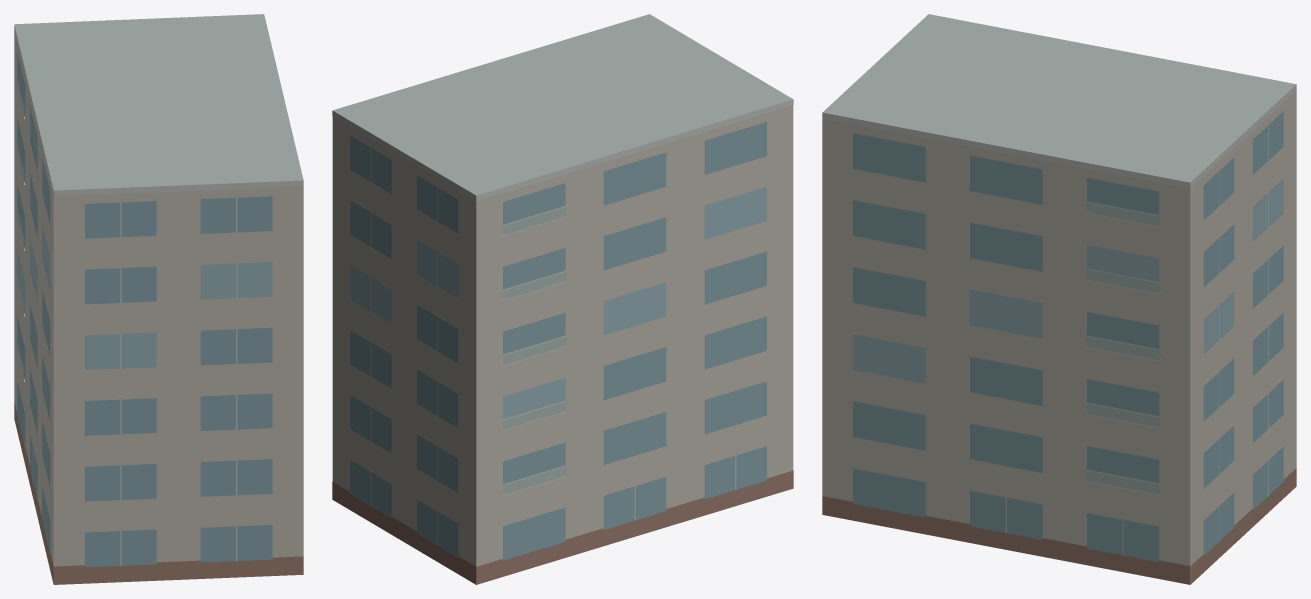
The model's file is survey-upis-32526546.glb.
The picture shows the model from 3 angles, left to right: view 1: azimuth 30°, elevation 25°; view 2: azimuth 150°, elevation 25°; view 3: azimuth 270°, elevation 25°; orthographic projection. The views are drawn at different scales.
Visible parts, largest first — view 1: survey-upis-32526546.tmp; view 2: survey-upis-32526546.tmp; view 3: survey-upis-32526546.tmp.
Boxes of the visible parts, x1,y1,x2,y2 form: survey-upis-32526546.tmp: (14, 14, 303, 584); survey-upis-32526546.tmp: (332, 14, 793, 584); survey-upis-32526546.tmp: (822, 14, 1296, 584).
Bounding box in the file's own units: 14.84 × 16.5 × 17.64.
